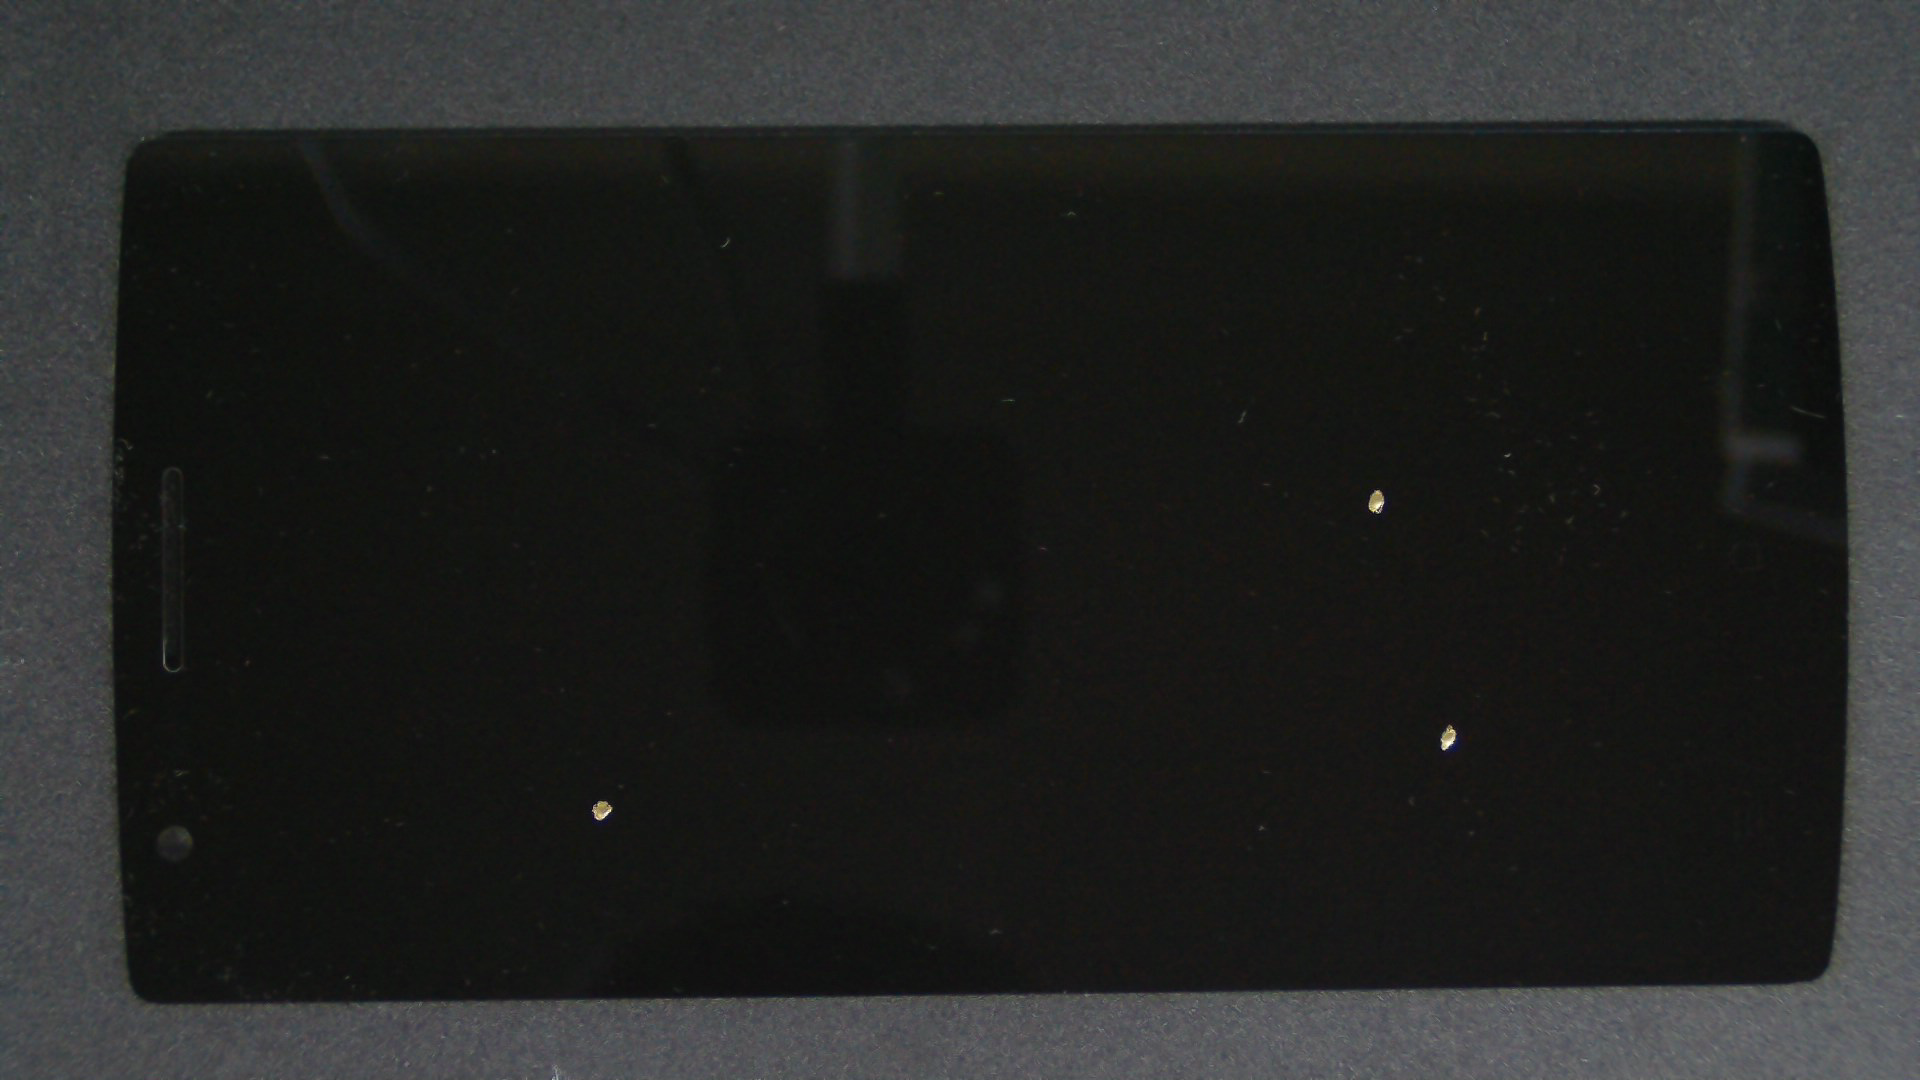defect: (589, 799, 615, 822), (1439, 723, 1457, 752), (1367, 488, 1385, 516)
